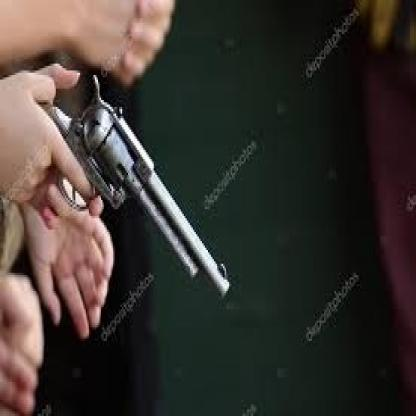Pistol: (21, 45, 233, 366)
